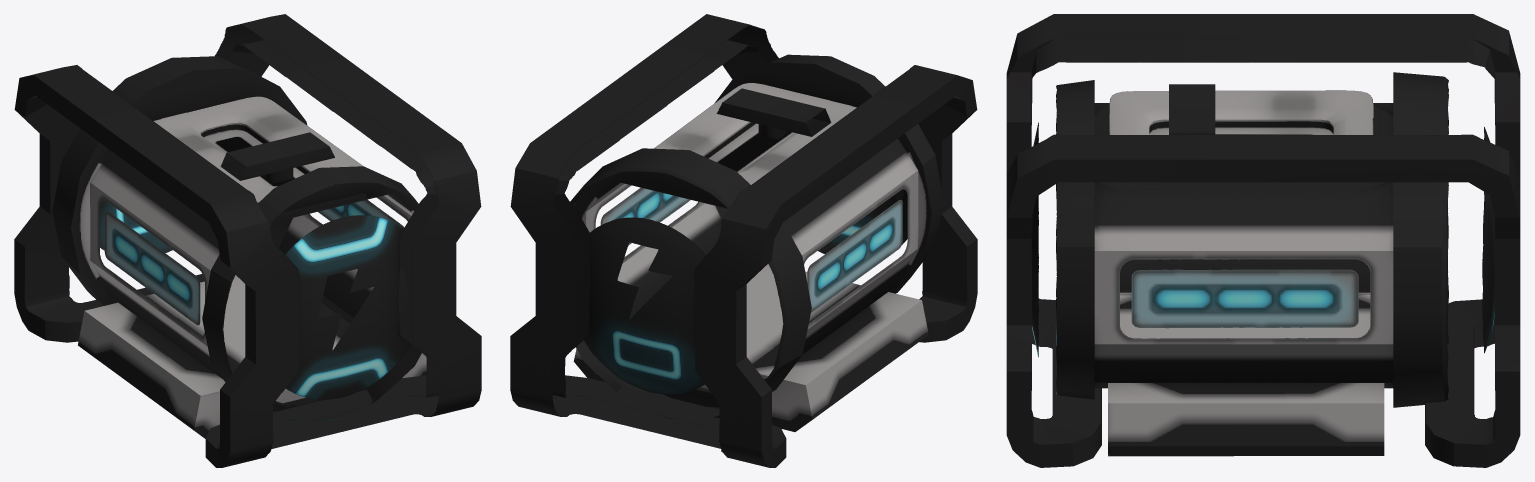
Rendered from obj_interactive_electricengine_04_on.fbx.
3 renders of one model, left to right at view 1: azimuth 30°, elevation 25°; view 2: azimuth 150°, elevation 25°; view 3: azimuth 270°, elevation 25°, orthographic. The views are drawn at different scales.
Visible parts, largest first — view 1: obj_interactive_electricengine_04_on; view 2: obj_interactive_electricengine_04_on; view 3: obj_interactive_electricengine_04_on.
Part boxes in pixels (x1=…): obj_interactive_electricengine_04_on: x1=14, y1=14, x2=481, y2=467; obj_interactive_electricengine_04_on: x1=510, y1=14, x2=977, y2=467; obj_interactive_electricengine_04_on: x1=1006, y1=14, x2=1520, y2=467.
Size of the model in its own units: 2.02 by 2 by 3.
